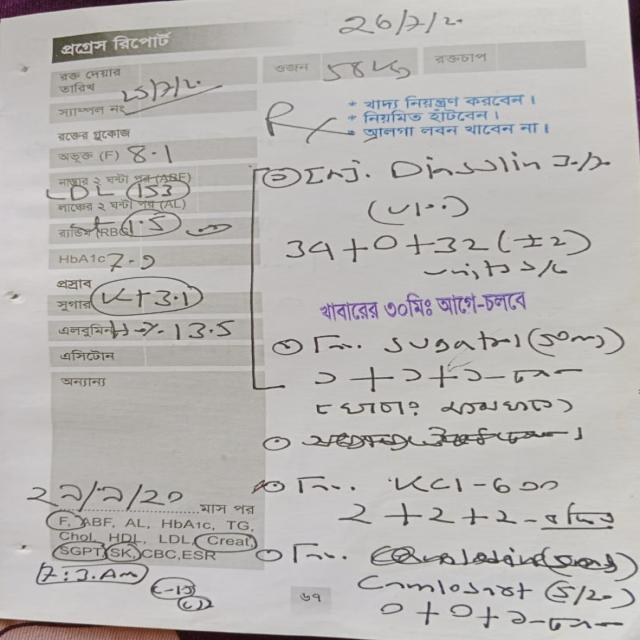Camlosart: (356, 564, 534, 605)
Diasulin: (387, 145, 548, 186)
KCL: (375, 468, 477, 504)
Sugatrol: (379, 328, 537, 360)
